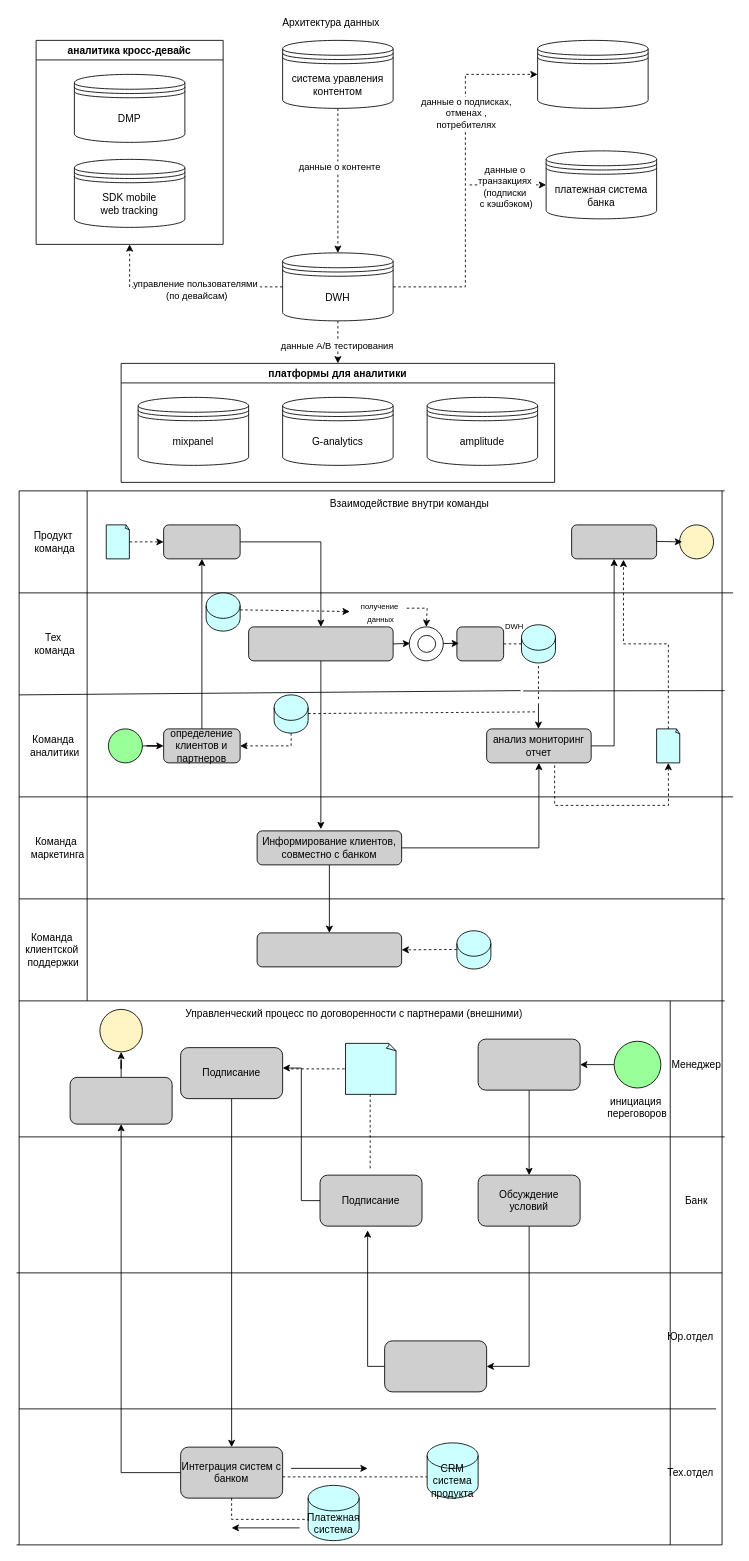
Image size: 749x1561. Some labels were removed from this diagram. The shapes that lost their labels are listed below. From the top down, each one's centre as x and y in pixels, then its label:
At pixel 592 74: "CRM система кинотеатра".
At pixel 201 541: "переговоры и заключение договора".
At pixel 614 541: "оценка результатов".
At pixel 320 643: "интеграция, управление данными, кросс-девайс".
At pixel 480 643: "ELT".
At pixel 329 949: "Обработка запросов пользователей".
At pixel 371 1068: "Документ".
At pixel 528 1064: "Подготовка соглашения сбор данных".
At pixel 120 1100: "Информация клиентам с банком и маркетинговой компанией".
At pixel 435 1366: "Проверка условий подготовка проекта документа соглашения".
